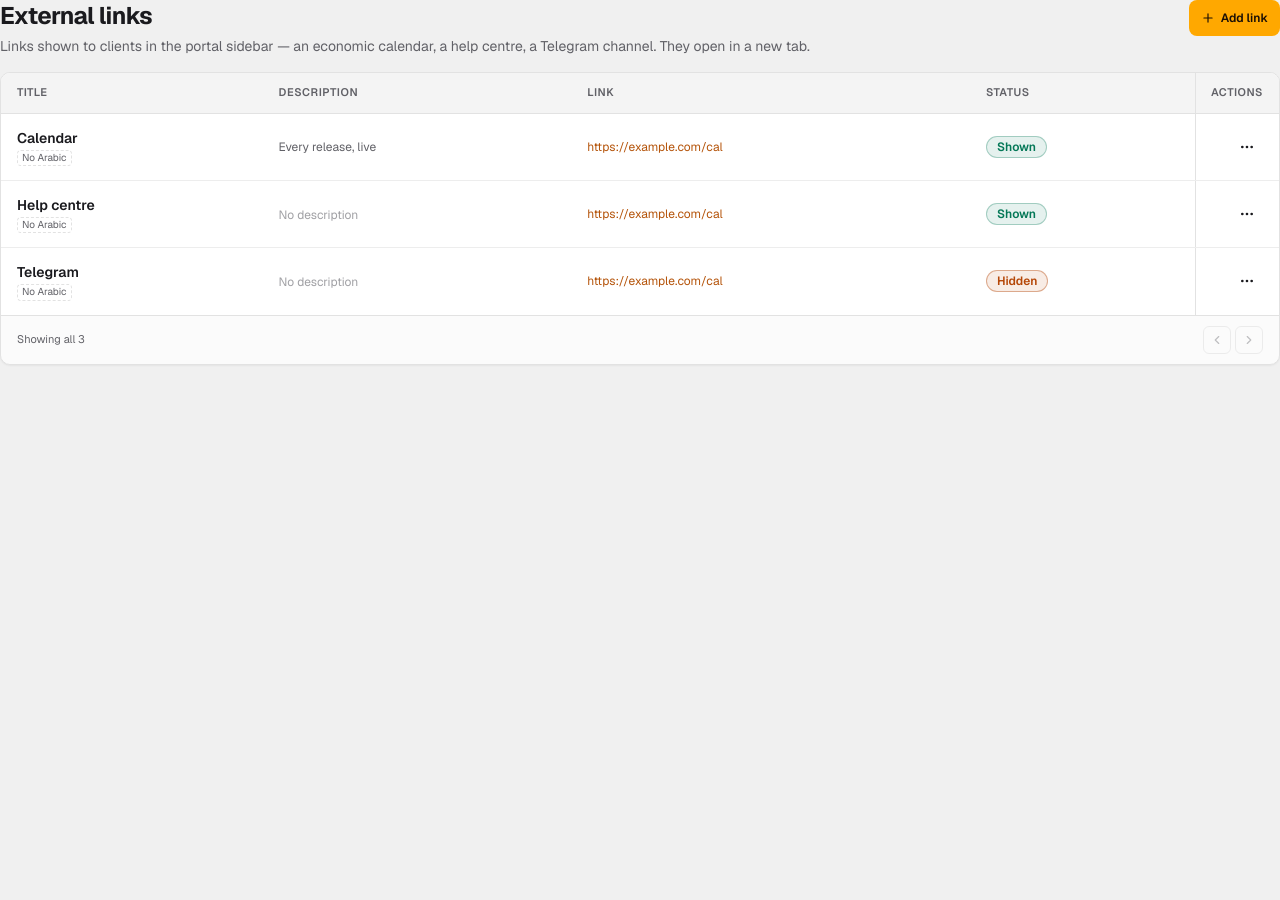
Test case: the form › refuses to submit a URL a browser would not navigate to
Expected: the text "Calendar" is shown, [17, 129, 78, 147]
Step 1. Click the button "Add link" → (1234, 18), box [1189, 0, 1279, 36]
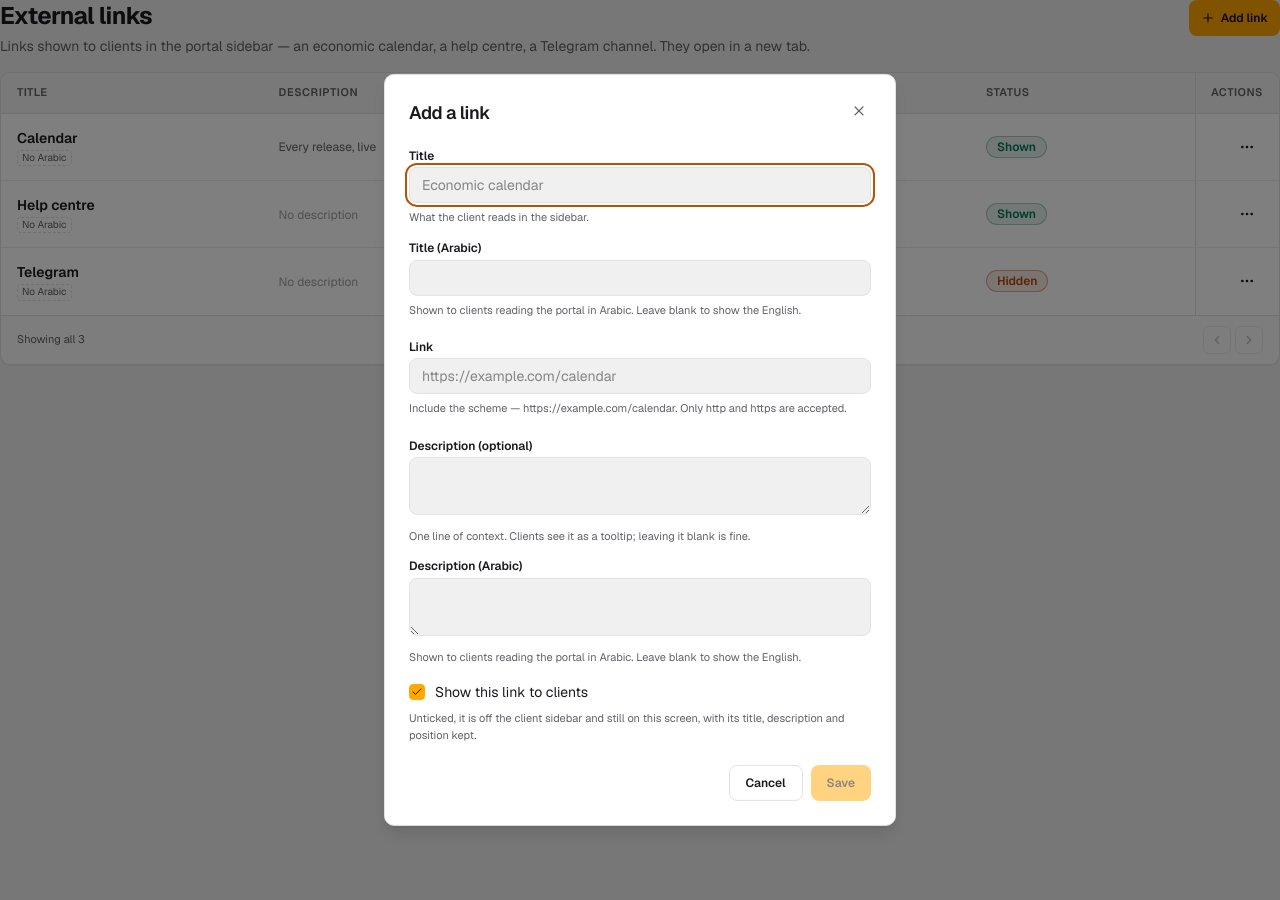
Step 2. Type "Bad" into the field labelled "Title" → (640, 185), box [409, 167, 871, 203]
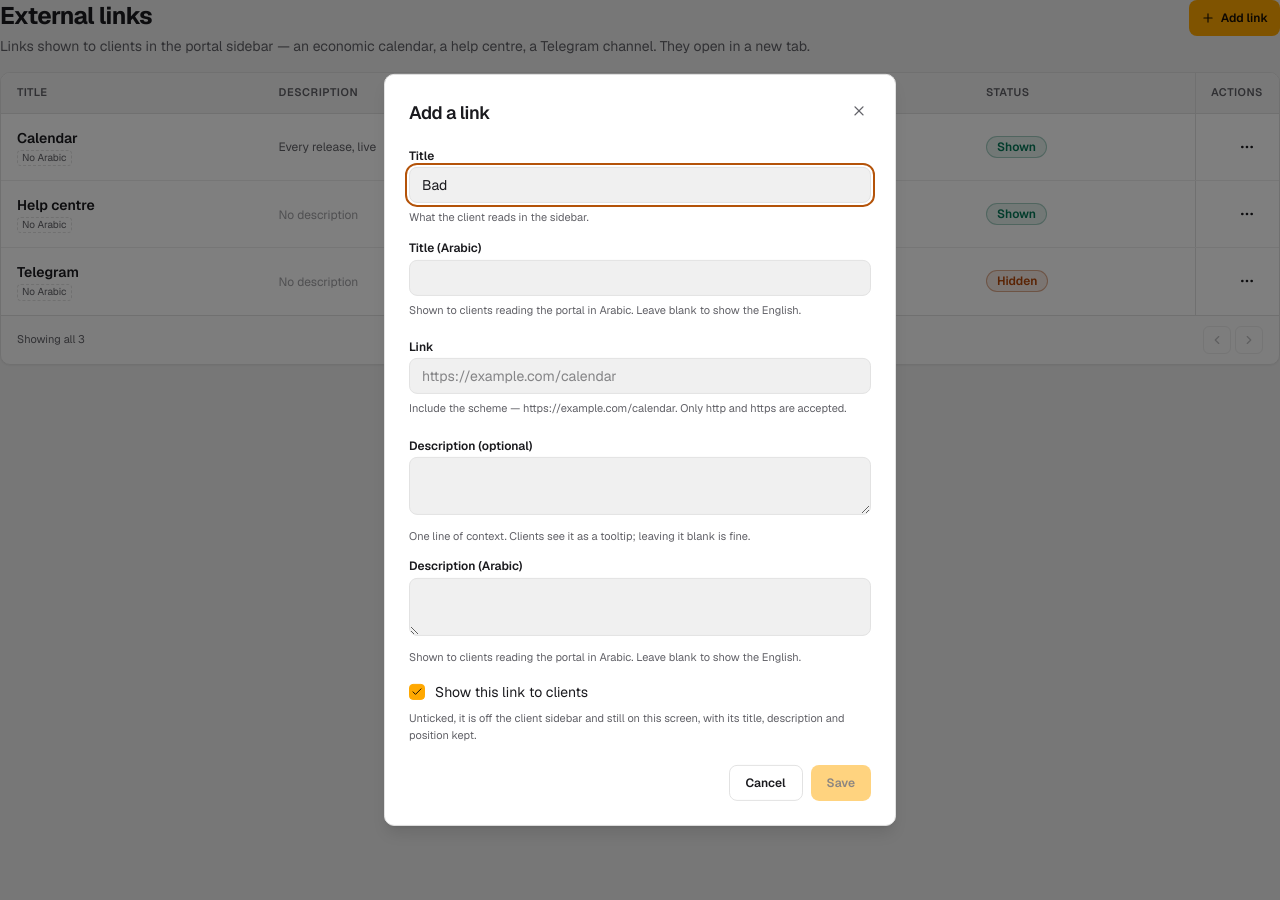
Step 3. Type "javascript:alert(1)" into the field labelled "Link" → (640, 376), box [409, 358, 871, 394]
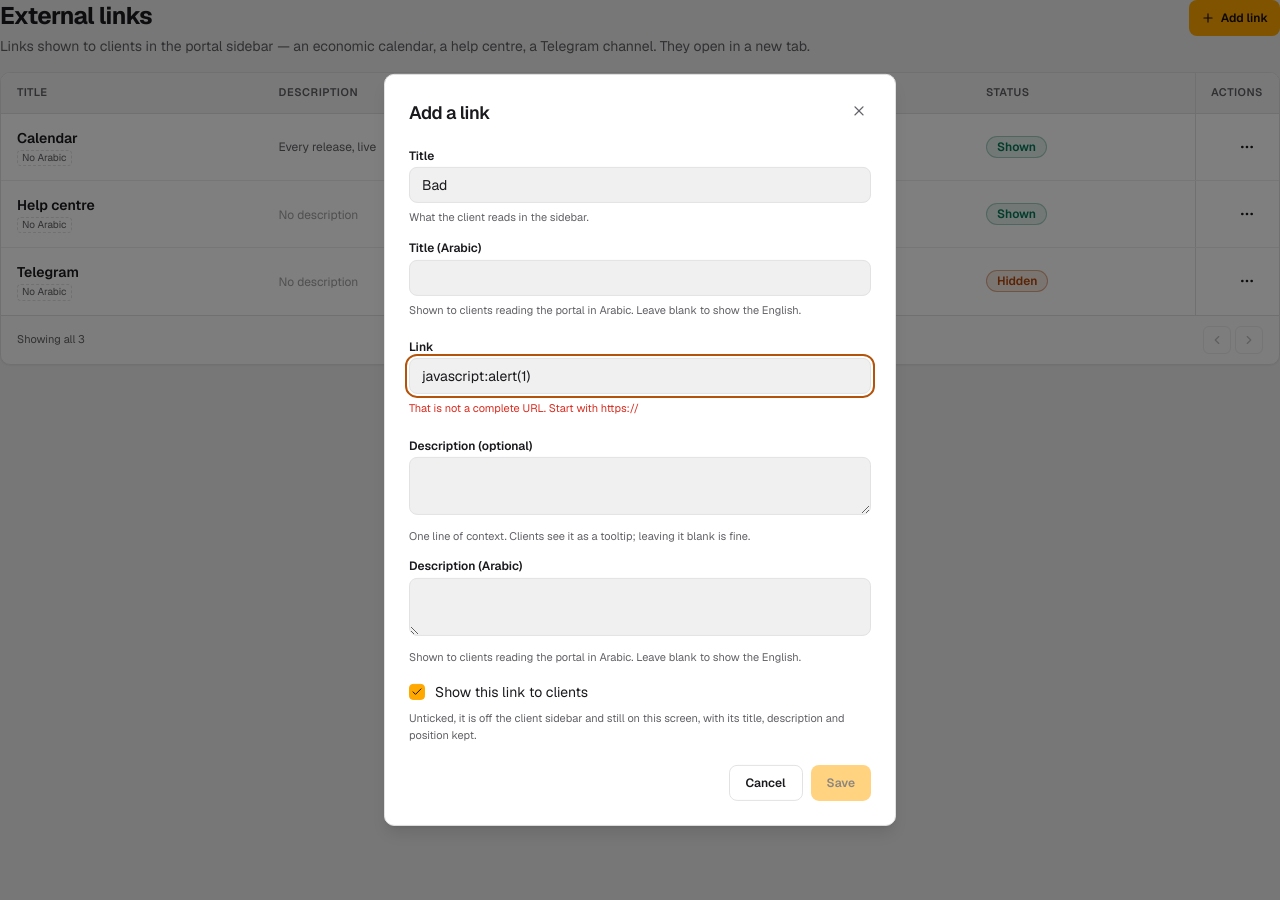
Result: the button "Save" is disabled at [810, 765, 871, 801]
Result: the text "That is not a complete URL. Start with https://" is shown at [409, 401, 639, 415]
